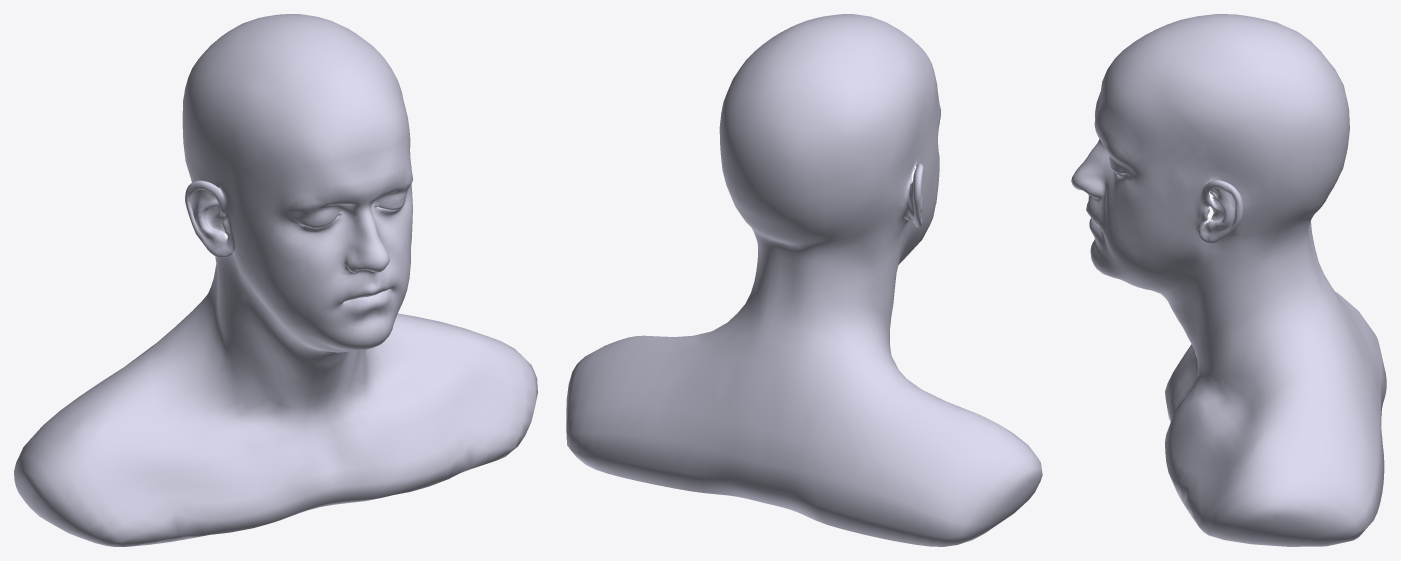
Rendered from head.glb.
3 views of the same model, side by side, from view 1: azimuth 30°, elevation 25°; view 2: azimuth 150°, elevation 25°; view 3: azimuth 270°, elevation 25° (orthographic). The views are drawn at different scales.
Parts seen in each view (by area): view 1: LeePerrySmith; view 2: LeePerrySmith; view 3: LeePerrySmith.
Boxes of the visible parts, <box> form: LeePerrySmith: <box>14,14,537,546</box>; LeePerrySmith: <box>566,14,1042,546</box>; LeePerrySmith: <box>1071,14,1386,546</box>.
Size of the model in its own units: 8.55 by 7.95 by 5.18.
